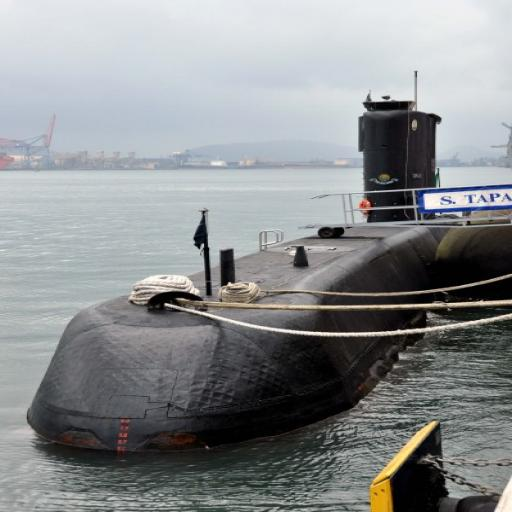submarine: (22, 68, 444, 449)
